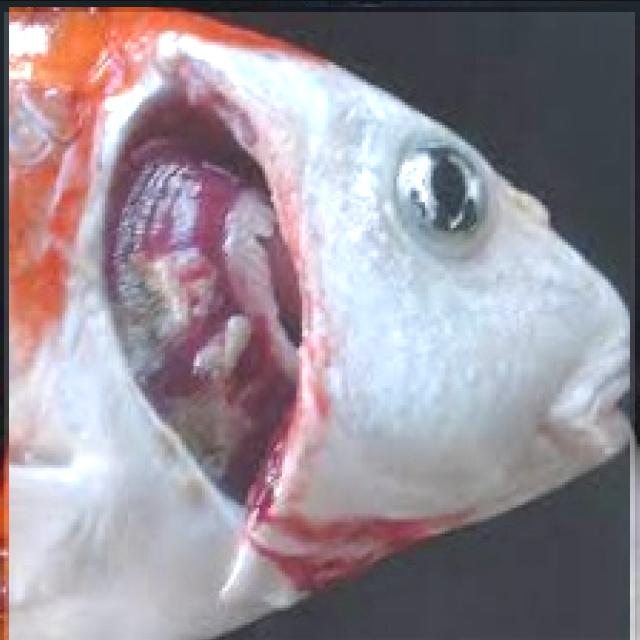Gill Disease: (4, 11, 635, 640)
